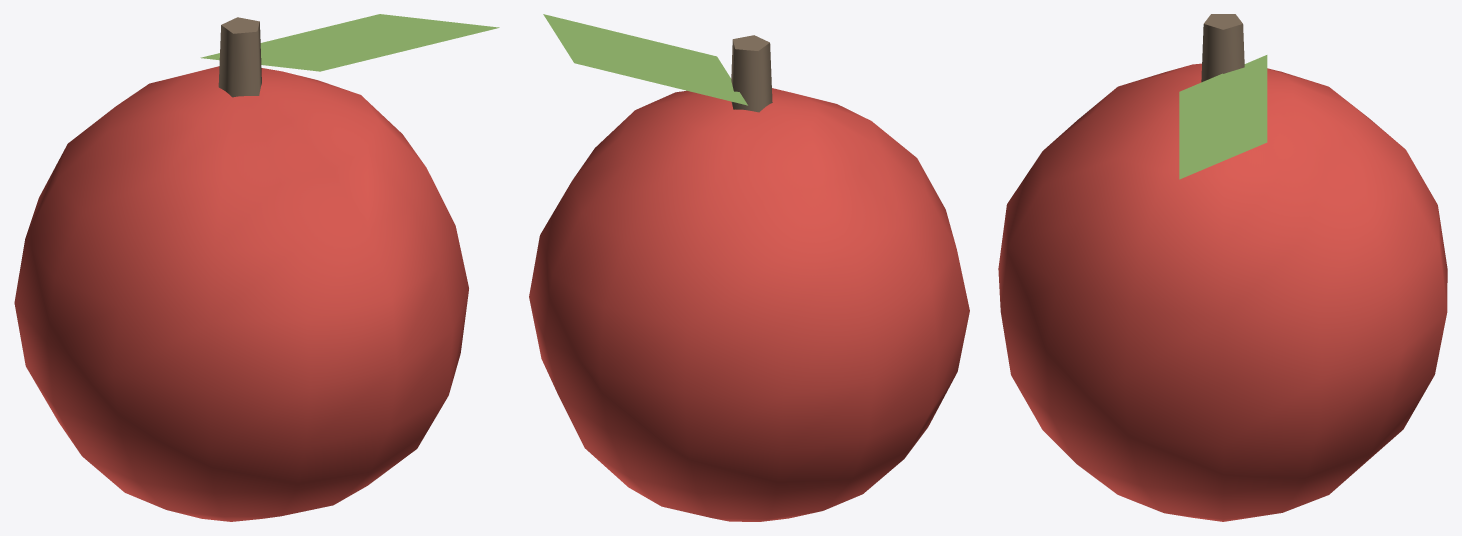
File: res_apple.glb
3 renders of one model, left to right at view 1: azimuth 30°, elevation 25°; view 2: azimuth 150°, elevation 25°; view 3: azimuth 270°, elevation 25°, orthographic. The views are drawn at different scales.
Parts seen in each view (by area): view 1: Apple; view 2: Apple; view 3: Apple.
Part boxes in pixels (<box>): Apple: <box>14,14,499,521</box>; Apple: <box>529,14,969,521</box>; Apple: <box>998,14,1447,521</box>.
Bounding box in the file's own units: 0.2392 × 0.2519 × 0.2161.
